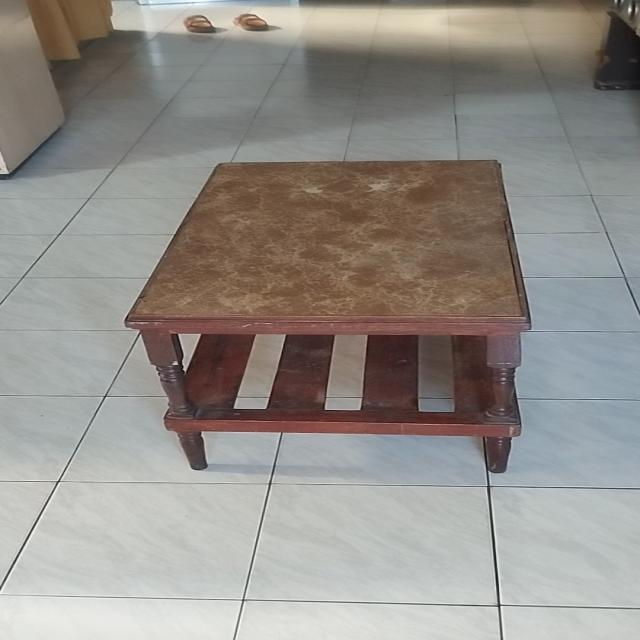table: (119, 153, 539, 476)
